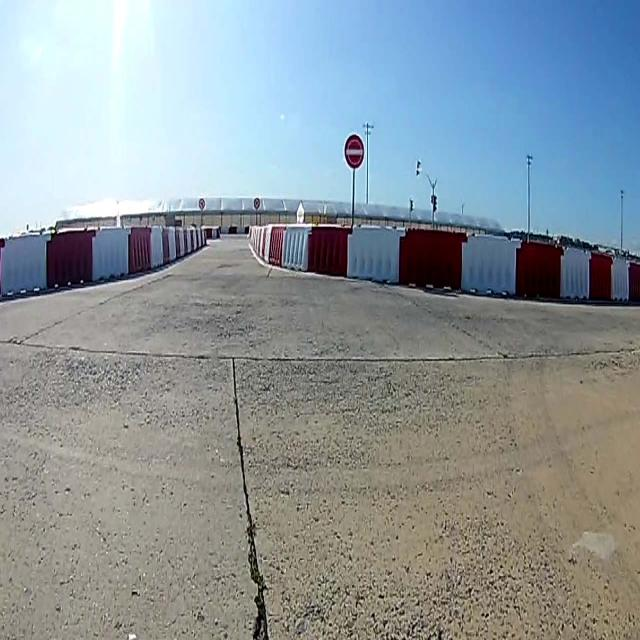girisyok: (346, 137, 363, 166)
